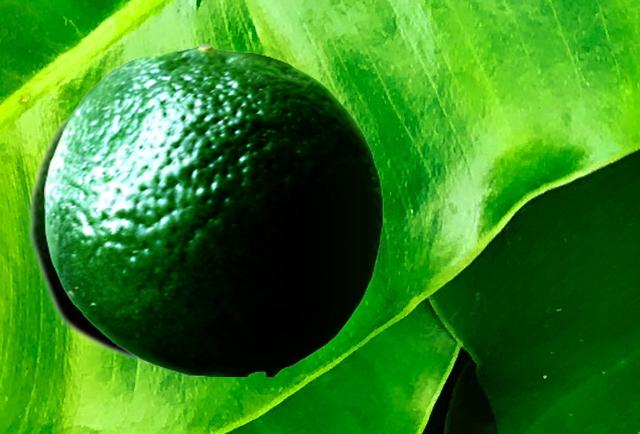calamansi: (44, 43, 382, 375), (26, 100, 150, 366)
